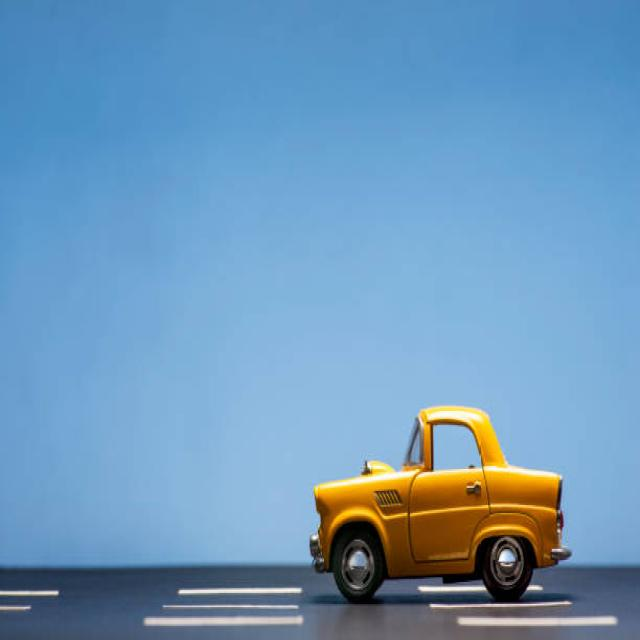Car: (308, 403, 571, 602)
